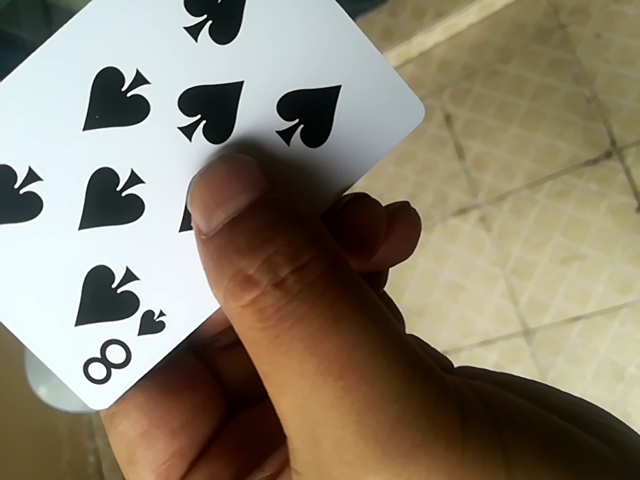ht 8: (0, 4, 430, 392)
